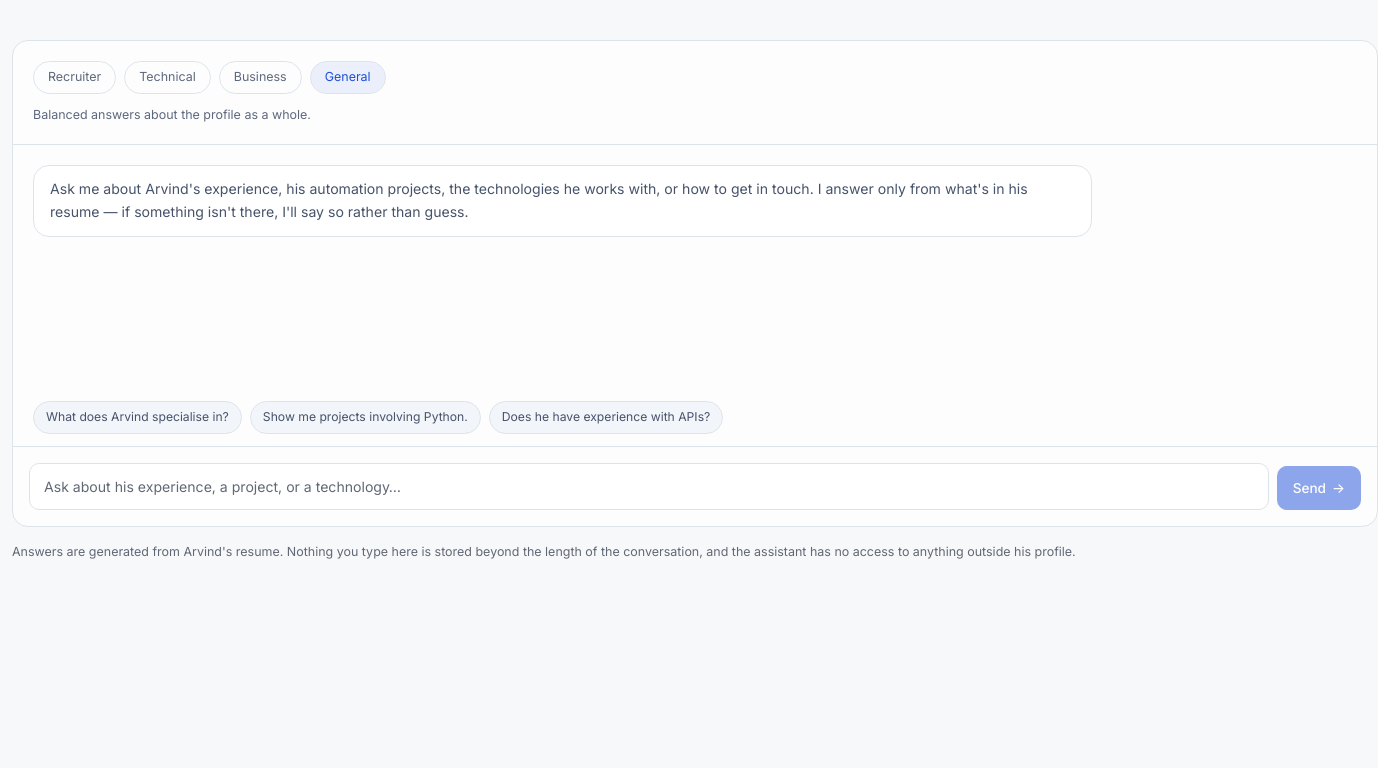
Scenario: Assistant › shows a friendly message when the network fails, never a stack trace
The image size is (1378, 768).
Type "Are you there?" into the text box with test id "assistant-input" at (649, 486), box 29,463 -> 1269,510
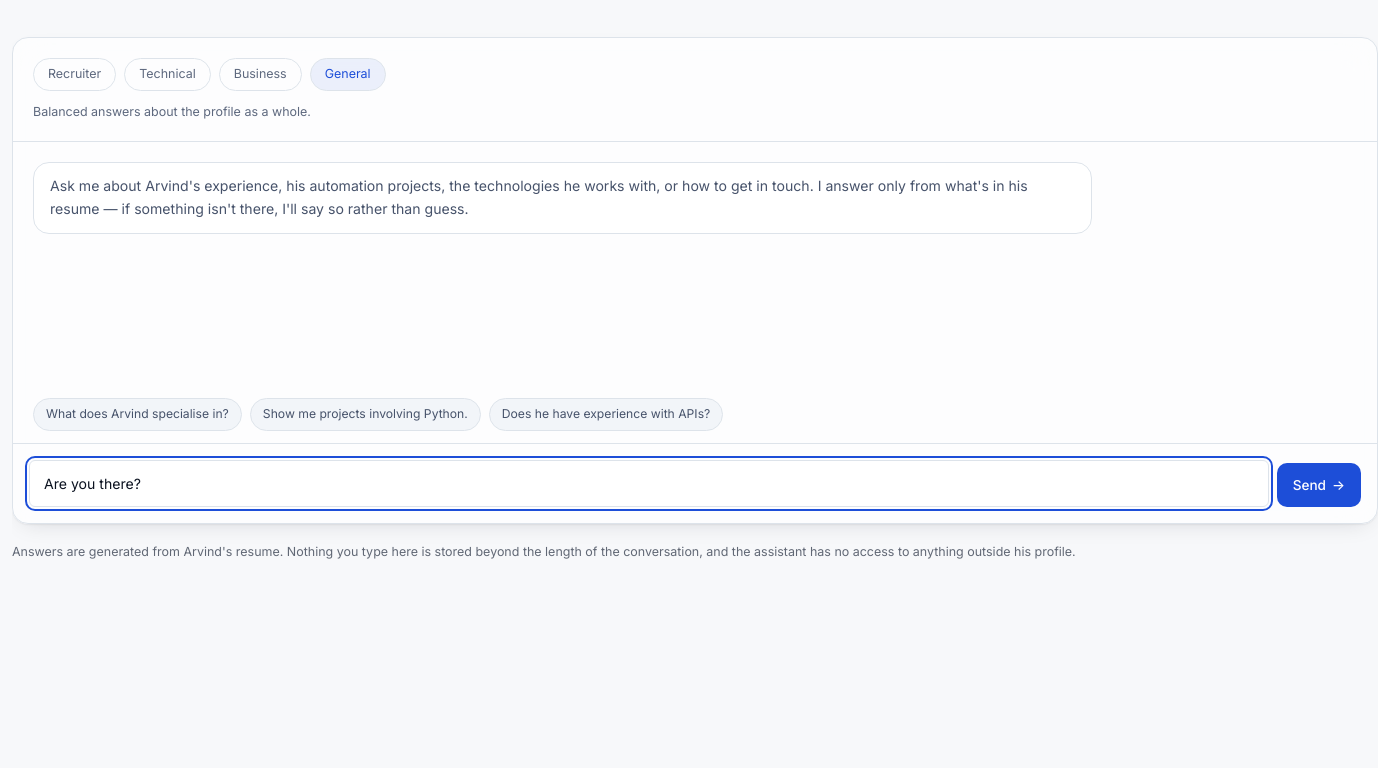
Click the button with test id "assistant-send" at (1319, 485), box 1277,463 -> 1361,507
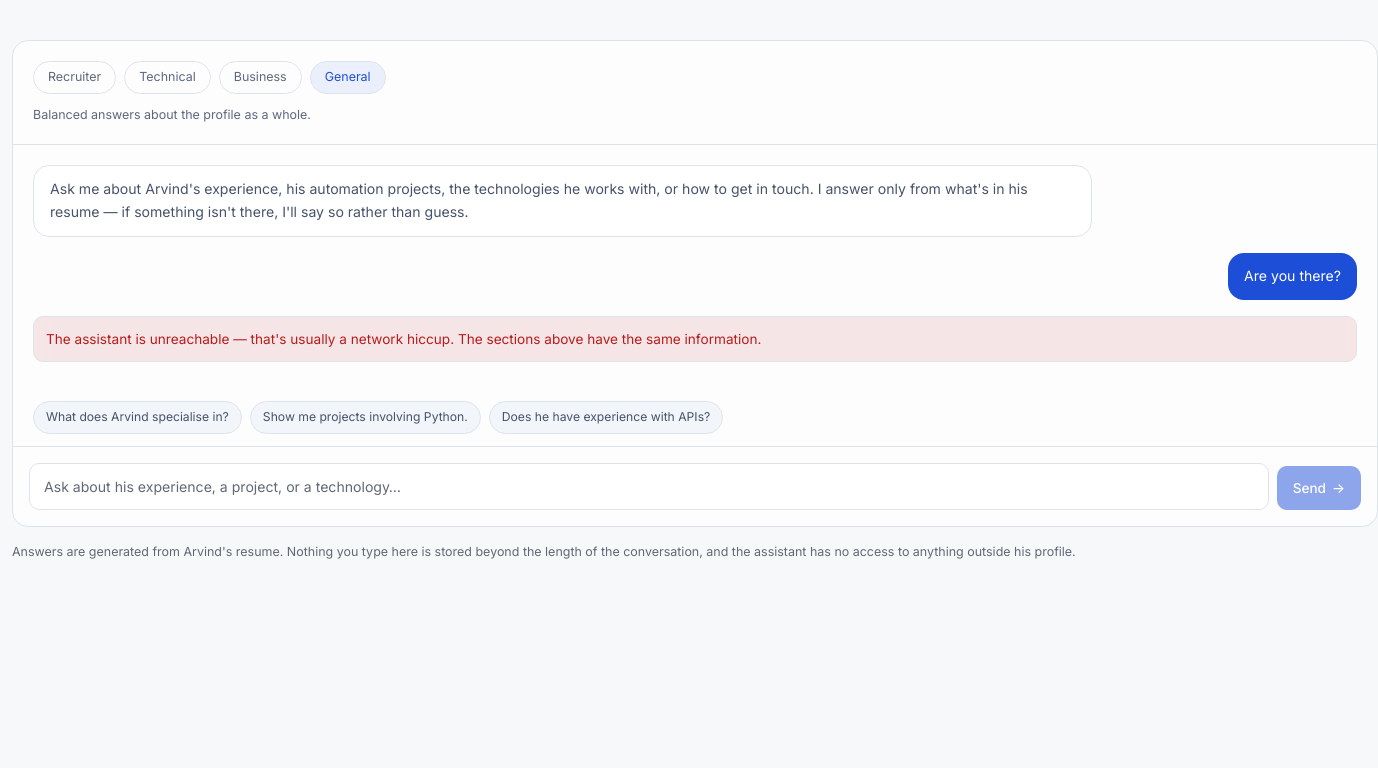
Expected: the message with test id "assistant-error" does not show "ECONNREFUSED", 33,316 -> 1357,362
Now the message with test id "assistant-error" is shown, box 33,316 -> 1357,362
